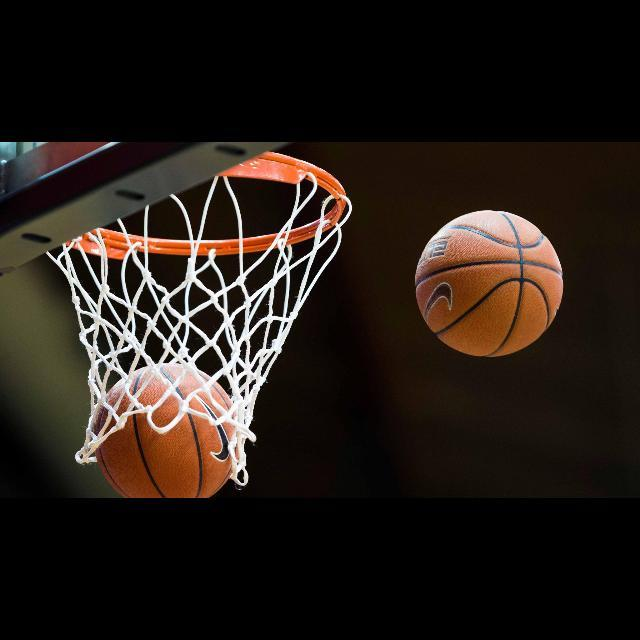basketball: (416, 211, 564, 357), (93, 367, 234, 498)
rim: (45, 150, 348, 444)
